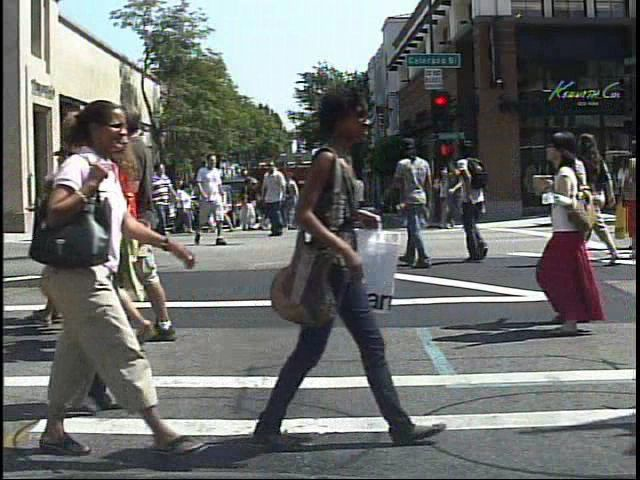person: (239, 76, 437, 458), (20, 87, 191, 471), (85, 122, 189, 355), (93, 98, 163, 351), (537, 123, 614, 348), (448, 138, 504, 271), (393, 131, 442, 276), (569, 128, 600, 343), (577, 132, 620, 268), (194, 151, 225, 249), (73, 163, 103, 247), (131, 161, 161, 244), (146, 158, 177, 237), (400, 162, 428, 234), (57, 182, 83, 245), (83, 183, 103, 225)
